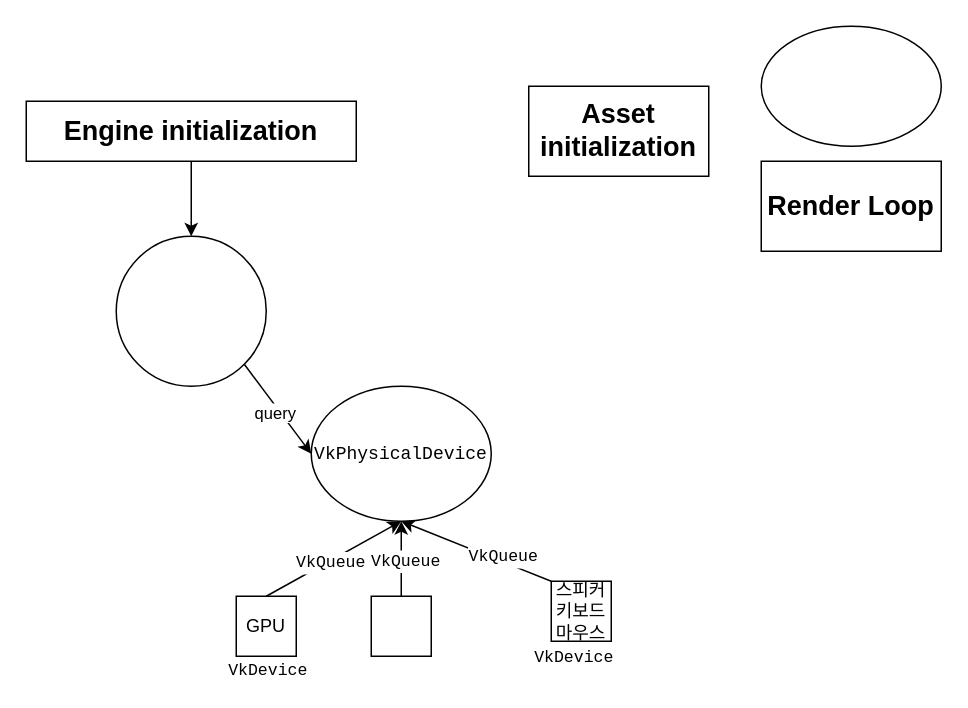
The diagram is 968 pixels wide and 708 high, and some of its shapes have lost their labels. The centre of each missing label's shape, as x and y in pixels:
"VkInstance" belongs at (190,310).
"내부그래픽" belongs at (400,625).
"역할 FPS 겁나게 사진을 찍는거야 모니터에다가" belongs at (850,85).
